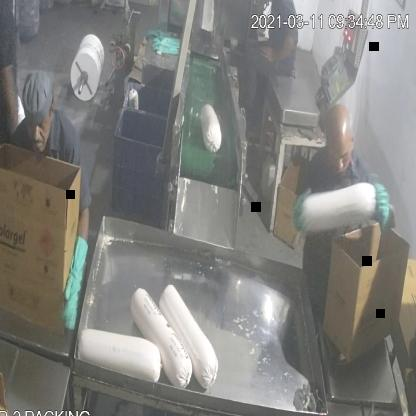glove: (63, 228, 92, 340), (371, 177, 397, 241)
no_glove: (258, 35, 298, 73)
